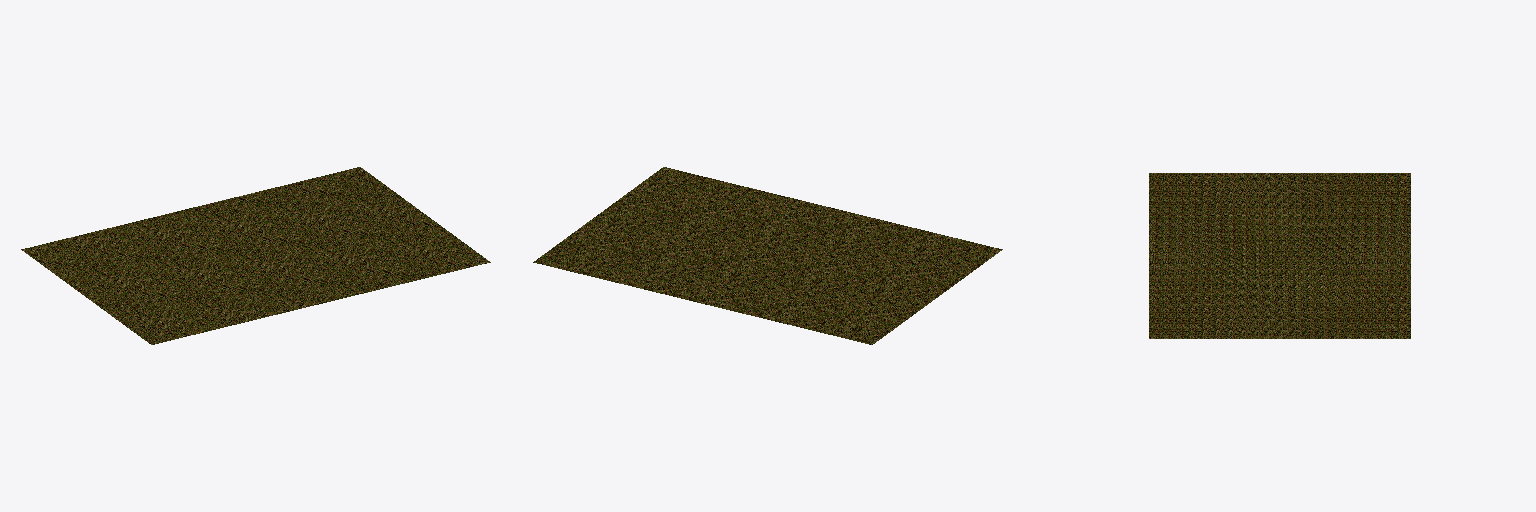
3 views of the same model, side by side, from view 1: azimuth 30°, elevation 25°; view 2: azimuth 150°, elevation 25°; view 3: azimuth 270°, elevation 25° (orthographic).
Visible parts, largest first — view 1: Plane; view 2: Plane; view 3: Plane.
Part boxes in pixels (x1,y1,x2,y2): Plane: (21,167,490,344); Plane: (533,167,1002,344); Plane: (1149,173,1410,338).
Size of the model in its own units: 15 by 0 by 10.
3 materials, 1 textured.